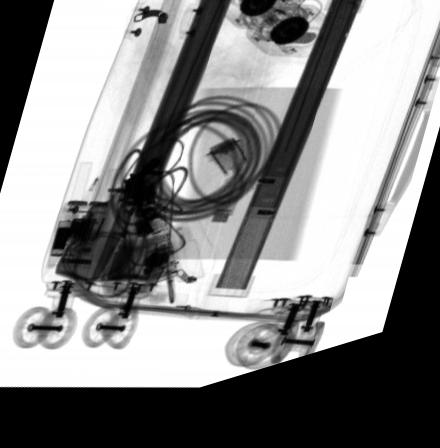Gun: (105, 163, 161, 245)
